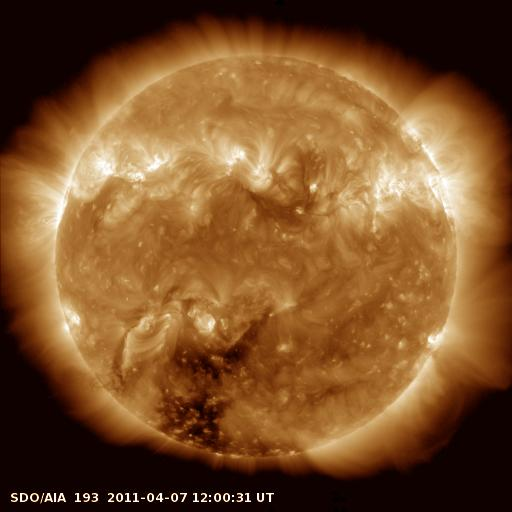coronal_hole: (153, 319, 263, 454)
